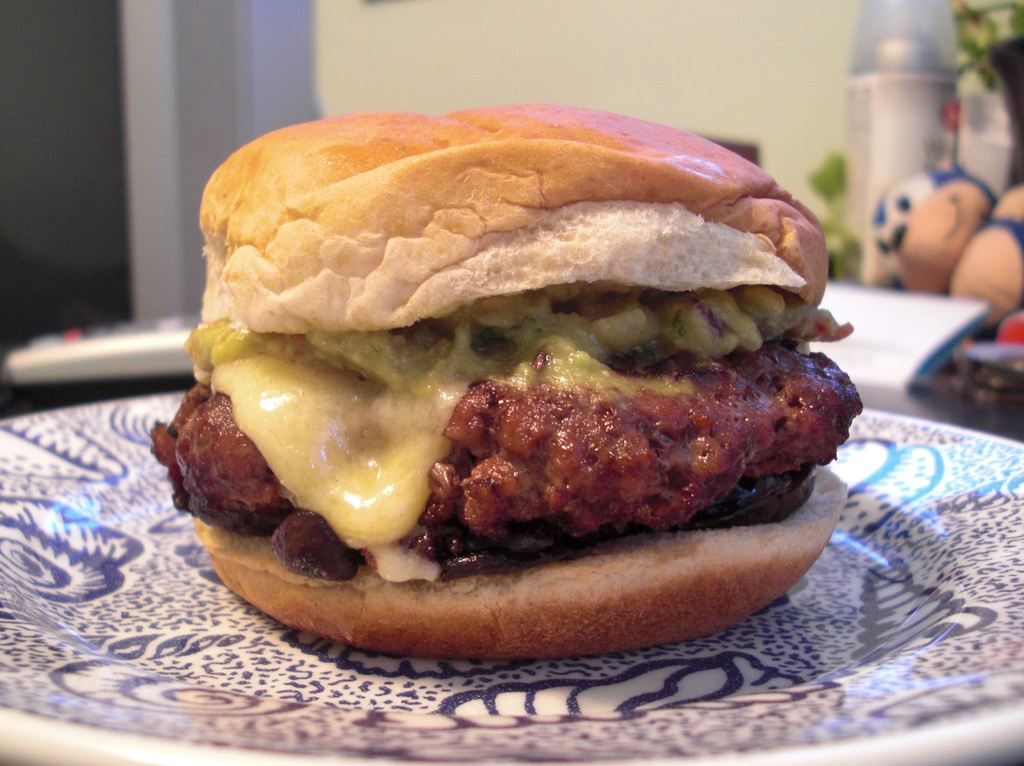Hamburger: (151, 101, 864, 654)
